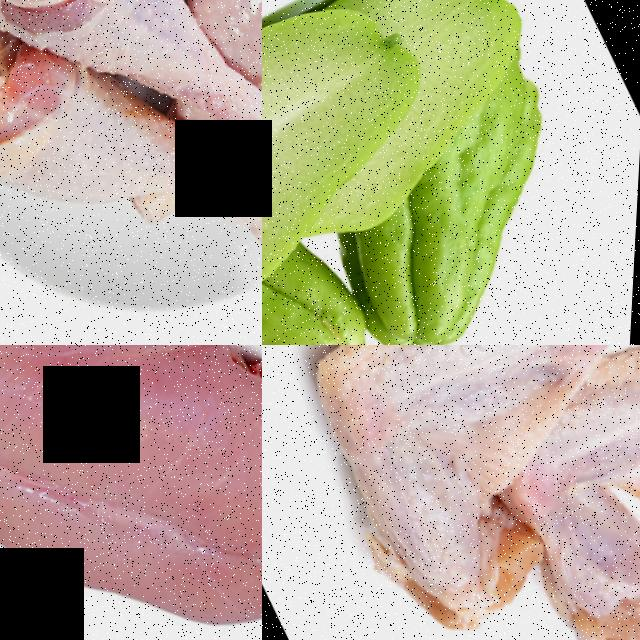chayote: (262, 0, 465, 339), (327, 134, 616, 345)
chicken breast: (0, 345, 262, 640)
chicken thigh: (0, 0, 262, 291), (0, 0, 243, 295)
chicken wing: (262, 345, 640, 640), (425, 345, 640, 640)
